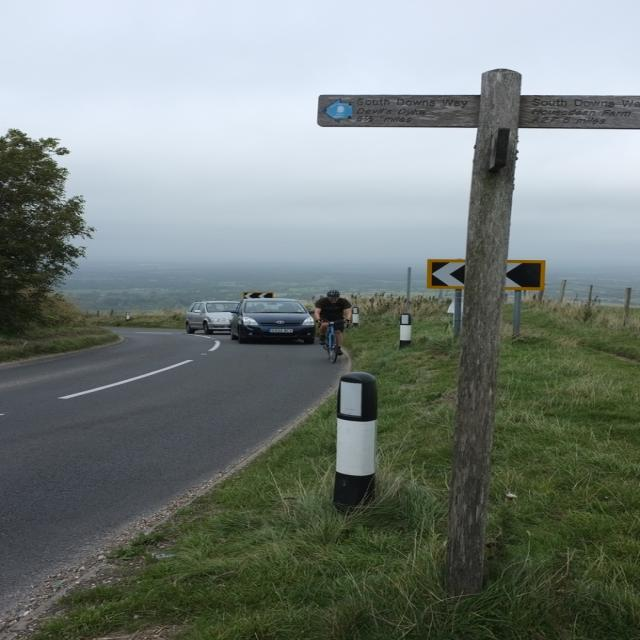car: (231, 298, 312, 344)
